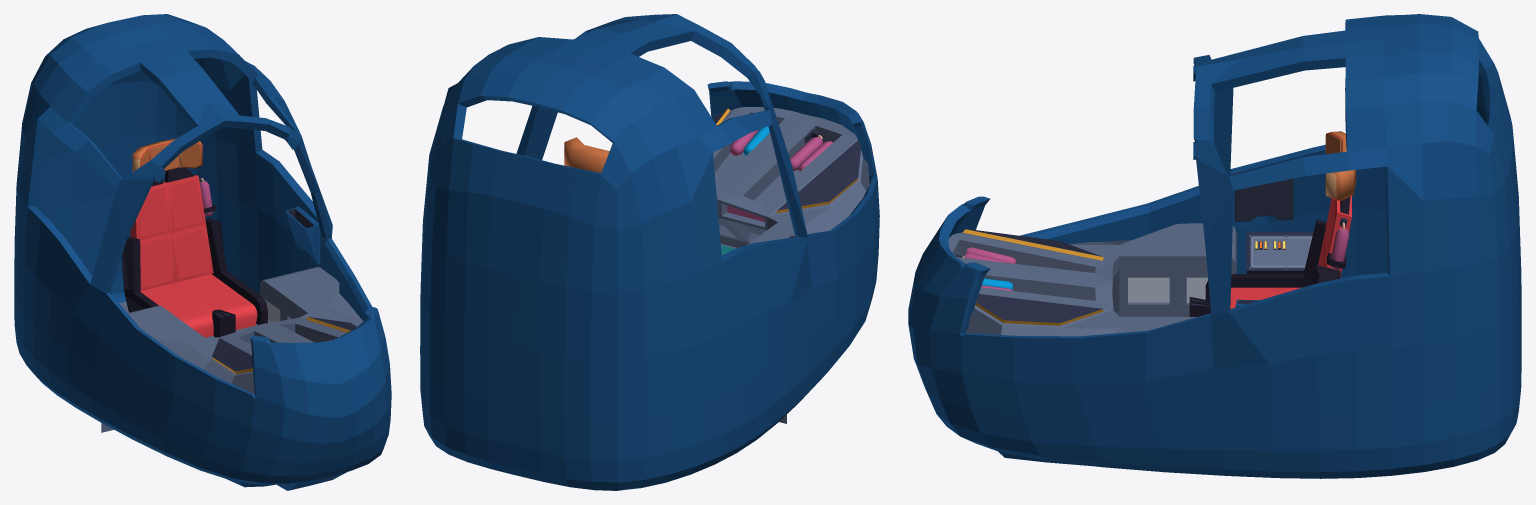
The model's file is cockpit.fbx.
3 renders of one model, left to right at view 1: azimuth 30°, elevation 25°; view 2: azimuth 150°, elevation 25°; view 3: azimuth 270°, elevation 25°, orthographic. The views are drawn at different scales.
Parts seen in each view (by area): view 1: Cube, Cube.001, Cube.004, Cube.012, Cube.010; view 2: Cube, Cube.004, Cube.010; view 3: Cube, Cube.004, Cube.001, Cube.037, Cube.011, Cube.010.
Boxes of the visible parts, box(x1,y1,x2,y2) form: Cube: box(14, 14, 391, 490); Cube.001: box(121, 168, 267, 337); Cube.004: box(101, 267, 363, 432); Cube.012: box(285, 206, 320, 264); Cube.010: box(132, 138, 202, 171); Cube: box(420, 14, 879, 490); Cube.004: box(713, 107, 869, 423); Cube.010: box(564, 137, 609, 172); Cube: box(908, 14, 1521, 478); Cube.004: box(948, 223, 1236, 336); Cube.001: box(1189, 196, 1351, 316); Cube.037: box(1246, 232, 1313, 273); Cube.011: box(1235, 172, 1293, 221); Cube.010: box(1325, 131, 1356, 201).
Size of the model in its own units: 300 by 377 by 524.
Materials: 8 (2 with a texture image).
